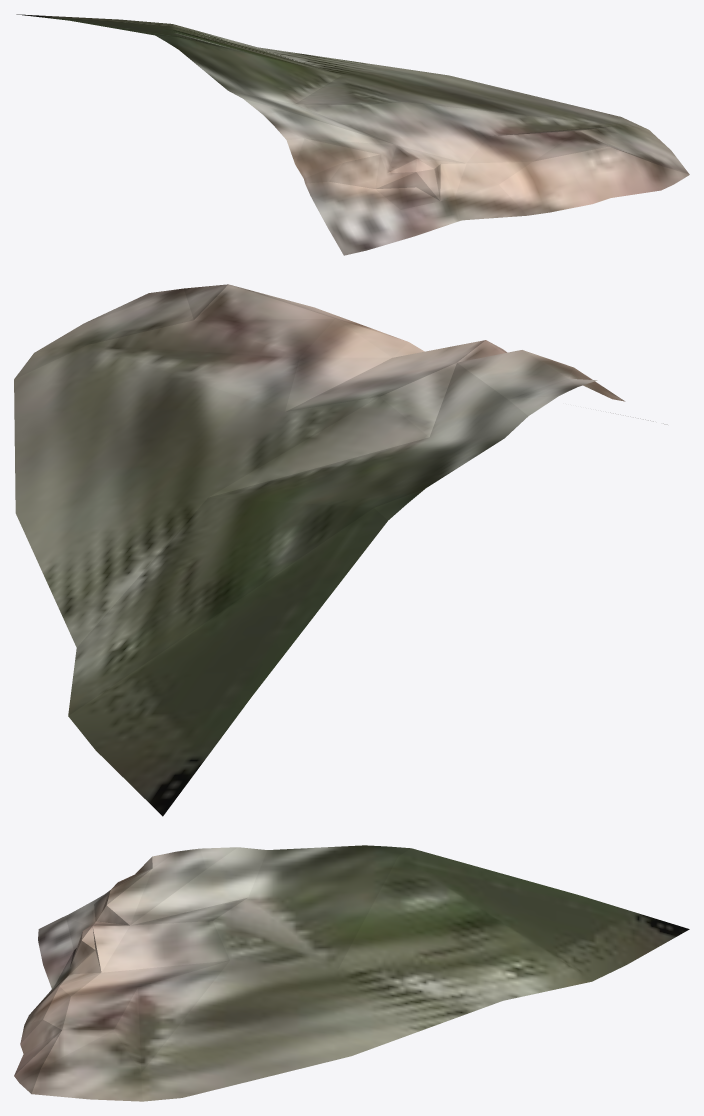
3 views of the same model, one above another, from view 1: azimuth 30°, elevation 25°; view 2: azimuth 150°, elevation 25°; view 3: azimuth 270°, elevation 25° (orthographic). The views are drawn at different scales.
Bounding box in the file's own units: 1.12 × 0.2543 × 1.86.
1 material, 1 textured.
